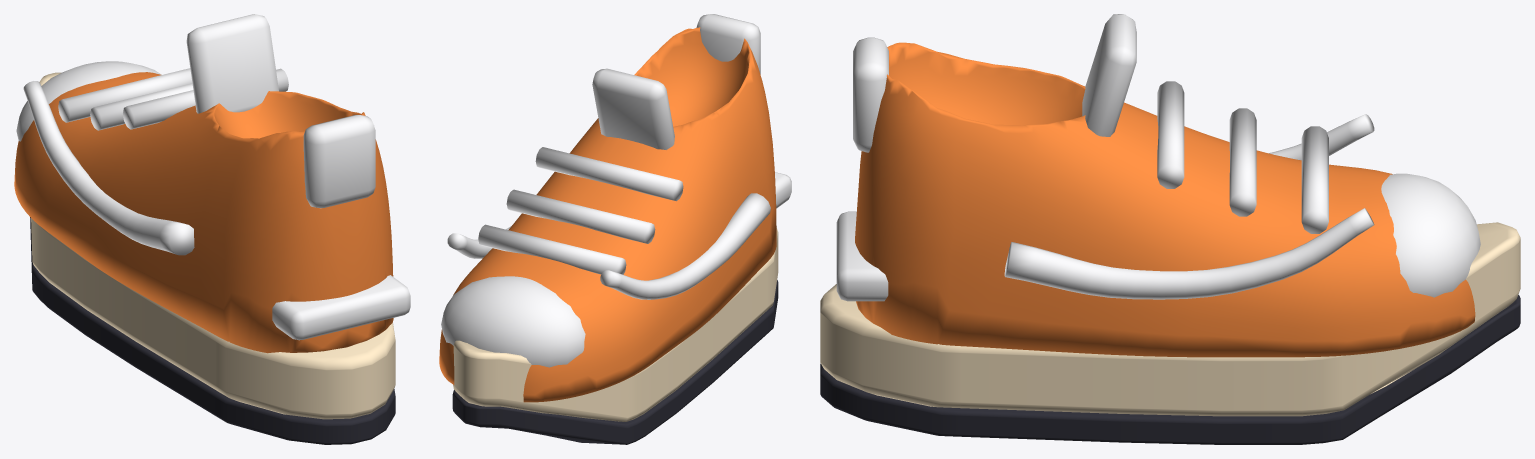
Rendered from shoe_running.fbx.
3 renders of one model, left to right at view 1: azimuth 30°, elevation 25°; view 2: azimuth 150°, elevation 25°; view 3: azimuth 270°, elevation 25°, orthographic. The views are drawn at different scales.
Visible parts, largest first — view 1: shoe_running; view 2: shoe_running; view 3: shoe_running.
Part boxes in pixels (x1,y1,x2,y2): shoe_running: (14, 14, 410, 444); shoe_running: (439, 14, 791, 444); shoe_running: (820, 14, 1520, 444).
Bounding box in the file's own units: 1.56 × 2.21 × 3.88.
Materials: 1 (1 with a texture image).
